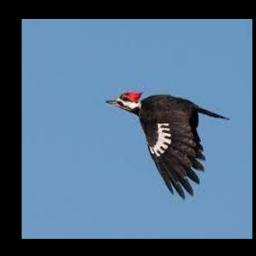Woodpecker: (107, 91, 230, 198)
